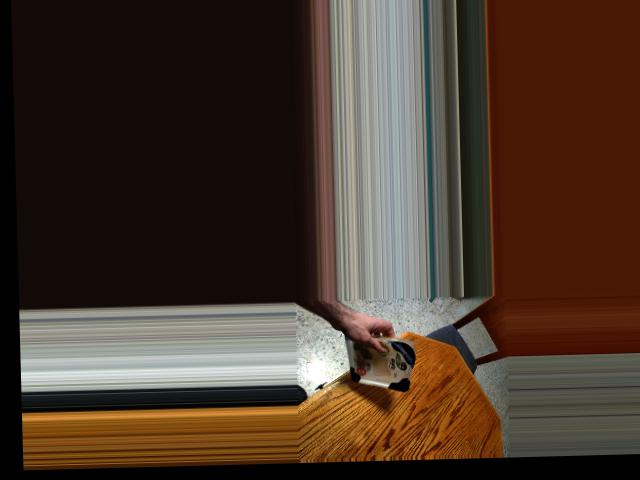cheese: (333, 331, 419, 389)
